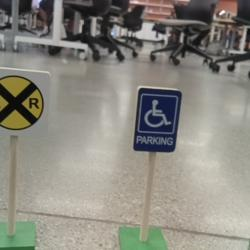handicap_parking: (133, 85, 182, 153)
railroad_crossing: (0, 67, 52, 137)
